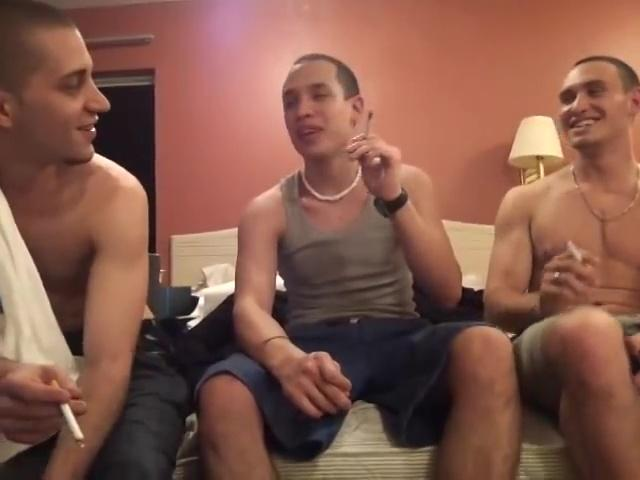cigarette: (54, 393, 91, 452), (362, 106, 377, 146), (566, 239, 587, 266)
